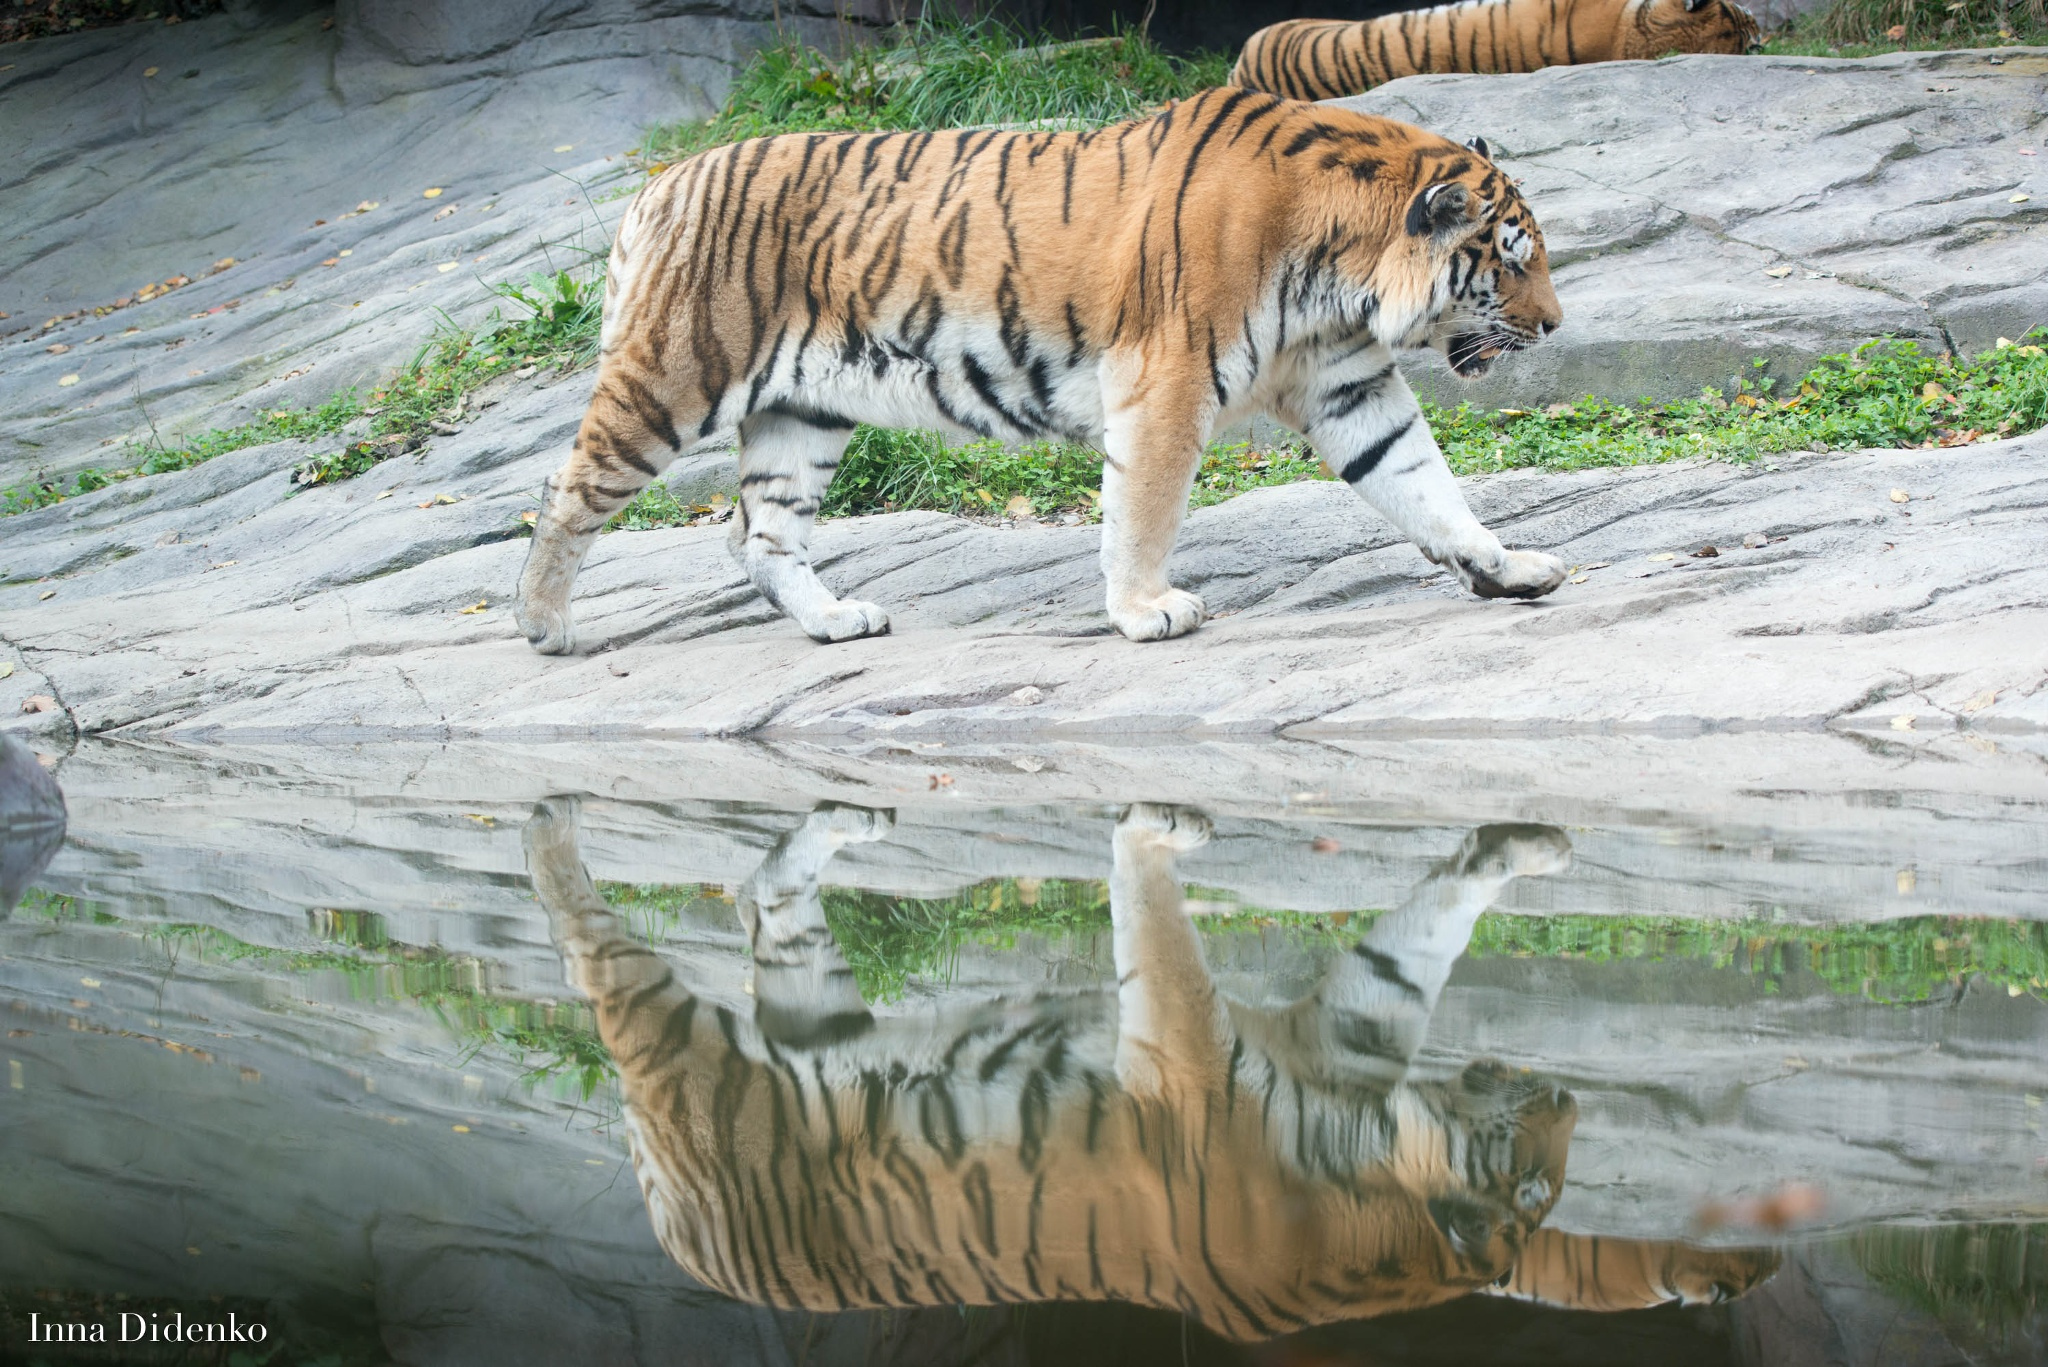tiger: (561, 93, 1655, 635)
